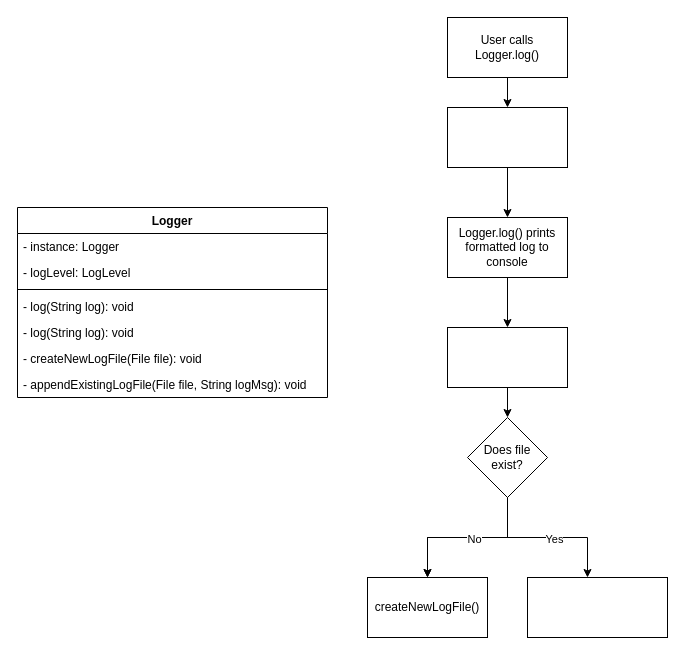
The diagram is 685 pixels wide and 655 high, and some of its shapes have lost their labels. Each missing label, with the centre of its shape:
"appendExistingLogFile()" goes at pixel 597 607.
"Logger.log() calls flushLog() to write to file" goes at pixel 507 357.
"Logger.log() calls the internal logging method depending on level" goes at pixel 507 137.
